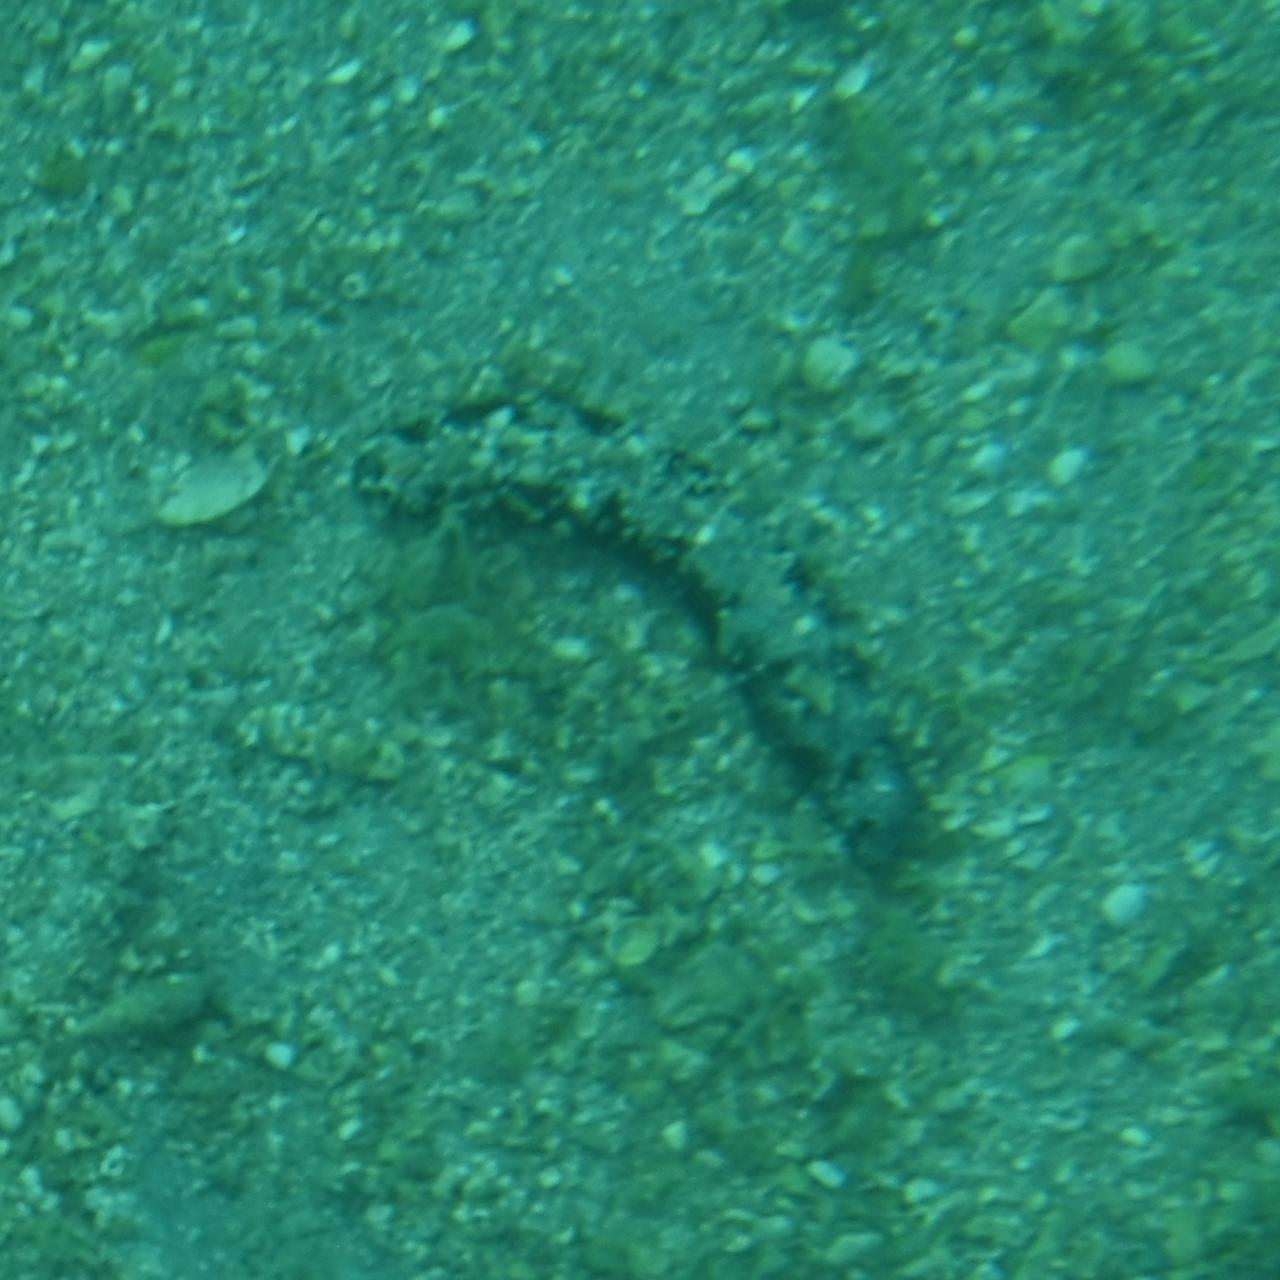Holothuria tubulosa: (324, 388, 956, 892)
